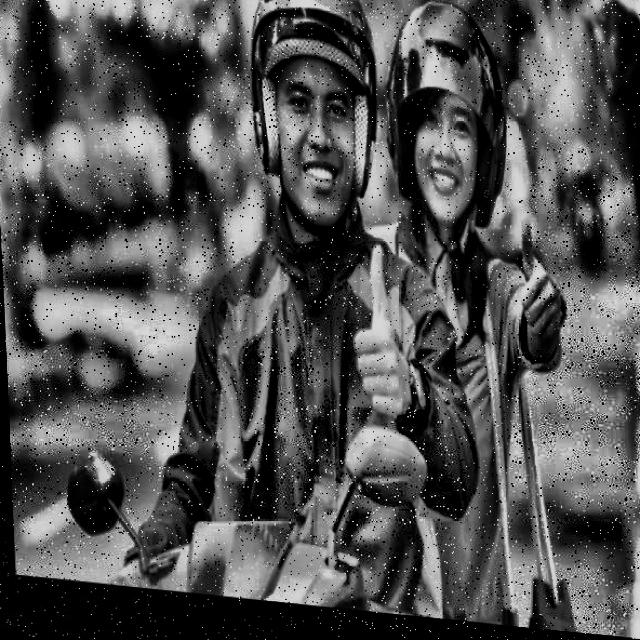Helmet: (241, 0, 385, 255), (378, 0, 512, 266)
